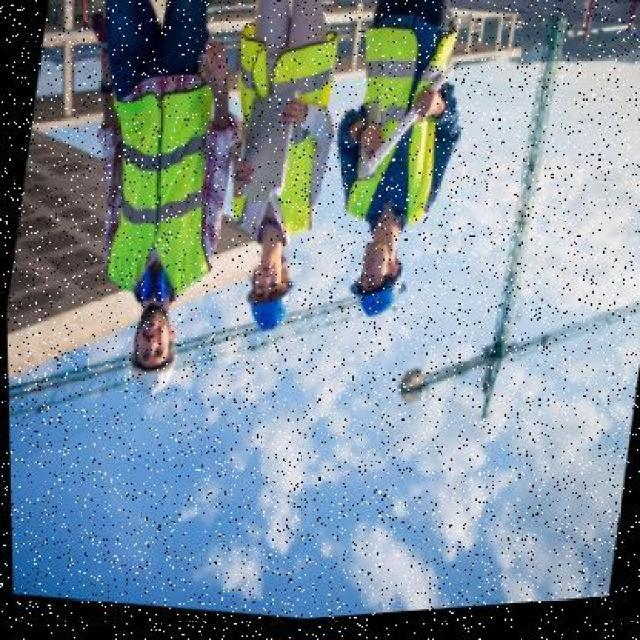helmet: (342, 241, 410, 327), (115, 325, 179, 410), (232, 268, 298, 341)
vest: (71, 51, 240, 310), (209, 14, 349, 256), (328, 17, 461, 243)
